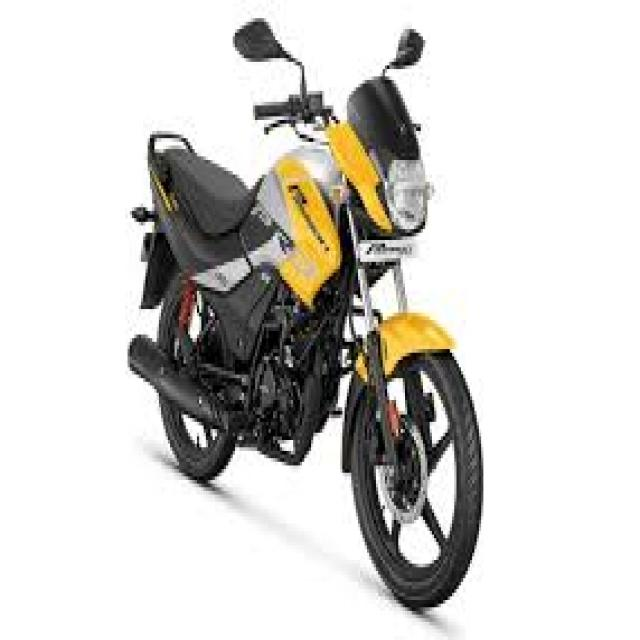Bike: (126, 17, 484, 610)
